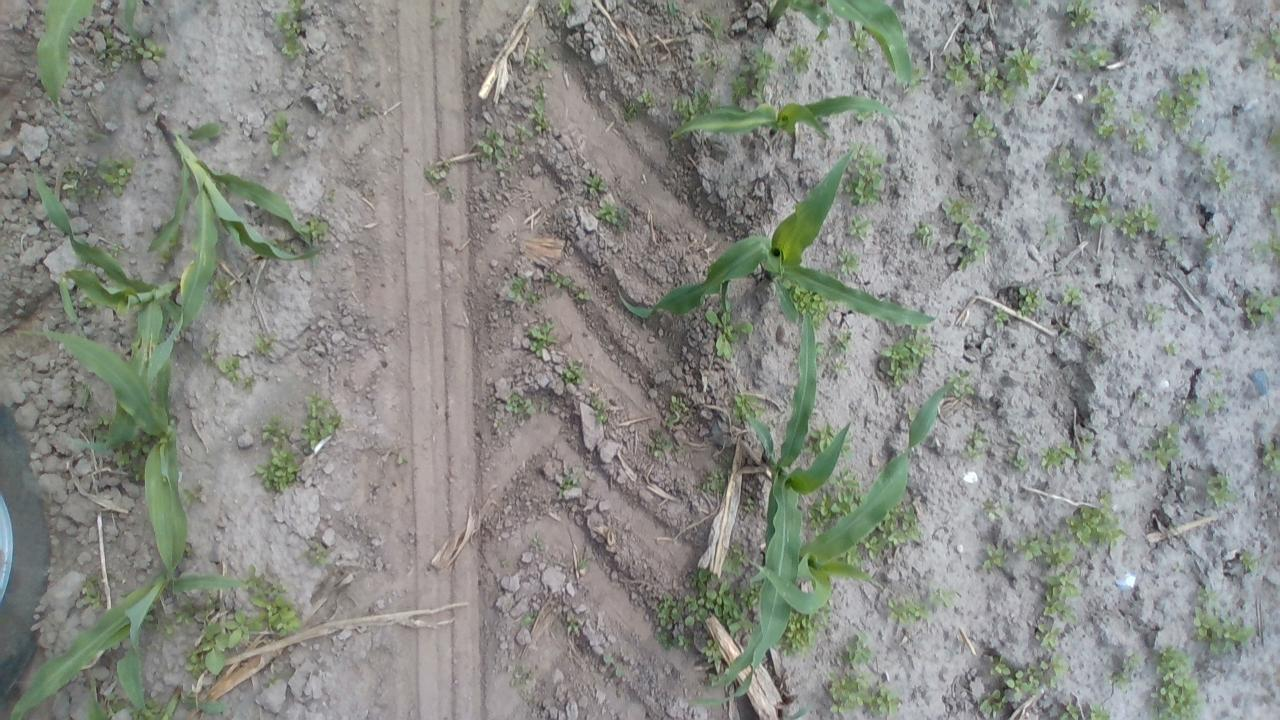Maize: (711, 379, 955, 687), (693, 313, 851, 705), (616, 147, 940, 324), (14, 313, 184, 575), (32, 172, 180, 450), (148, 113, 322, 344), (10, 573, 245, 720), (764, 0, 913, 82), (36, 1, 139, 111), (667, 96, 904, 140), (88, 677, 182, 720)
Weeds: (974, 650, 1066, 712), (1193, 586, 1254, 652), (1150, 646, 1202, 720), (698, 568, 754, 632), (882, 332, 936, 386), (1063, 503, 1129, 546), (706, 307, 754, 360), (807, 492, 863, 532), (302, 394, 339, 450), (848, 146, 882, 206), (200, 618, 234, 676), (1147, 420, 1183, 473), (653, 598, 696, 642), (1155, 90, 1199, 132), (255, 592, 300, 632), (260, 449, 298, 493), (790, 284, 826, 330), (1065, 42, 1115, 72), (1242, 289, 1280, 328), (1110, 648, 1146, 686), (1068, 195, 1110, 226), (1118, 205, 1160, 236), (101, 158, 136, 195), (886, 596, 929, 626), (831, 676, 866, 711), (1044, 570, 1080, 604), (961, 422, 990, 462), (672, 92, 714, 119), (1006, 50, 1036, 87), (892, 504, 922, 540), (786, 616, 816, 652), (276, 10, 300, 54), (866, 689, 901, 719), (965, 224, 992, 262), (1043, 440, 1076, 471), (528, 318, 558, 352), (1040, 597, 1078, 623), (722, 538, 748, 574), (1058, 703, 1112, 720), (1048, 146, 1075, 180), (1016, 284, 1043, 318), (268, 112, 288, 157), (1250, 28, 1280, 58), (941, 197, 972, 226), (226, 611, 254, 643), (1207, 472, 1233, 506), (98, 34, 124, 68), (694, 467, 726, 494), (1015, 532, 1043, 562), (1090, 85, 1118, 115), (1174, 66, 1211, 88), (732, 393, 762, 420), (132, 38, 164, 63), (848, 636, 871, 670), (218, 353, 244, 383), (478, 132, 508, 158), (1065, 0, 1091, 30), (698, 50, 726, 77), (184, 652, 209, 682), (810, 423, 834, 454), (1259, 437, 1280, 472), (1044, 541, 1072, 567), (1076, 150, 1100, 180), (262, 416, 289, 442), (928, 586, 956, 611), (980, 66, 1004, 95), (1034, 624, 1062, 648), (948, 369, 972, 397), (212, 276, 234, 306), (731, 74, 756, 100), (982, 545, 1006, 572), (788, 44, 812, 71), (82, 581, 105, 609), (702, 11, 722, 43), (533, 96, 550, 133), (582, 173, 608, 197), (972, 114, 996, 139), (1138, 3, 1162, 28), (505, 392, 527, 419), (668, 392, 690, 419), (755, 51, 776, 79), (835, 470, 860, 493), (1112, 458, 1134, 484), (840, 248, 861, 275), (590, 396, 610, 424), (596, 202, 620, 225), (528, 48, 550, 73), (306, 215, 326, 242), (944, 64, 968, 86), (852, 214, 874, 238), (308, 544, 328, 570), (132, 434, 152, 460), (1266, 118, 1280, 154), (602, 654, 622, 679), (562, 464, 581, 490), (1240, 547, 1258, 574), (508, 276, 528, 300), (1214, 161, 1230, 191), (650, 430, 670, 454), (702, 638, 722, 662), (1207, 391, 1227, 414), (962, 42, 981, 66), (850, 28, 870, 50), (918, 224, 938, 246), (1184, 395, 1203, 418), (116, 448, 136, 469), (563, 364, 584, 384), (255, 336, 274, 358), (991, 306, 1010, 328), (864, 537, 882, 560), (1005, 453, 1029, 470), (983, 500, 1001, 522), (834, 329, 850, 353), (174, 605, 193, 625), (158, 618, 177, 638), (1189, 137, 1207, 158), (999, 86, 1016, 108), (1098, 122, 1117, 141), (1046, 214, 1064, 234), (550, 271, 570, 289), (425, 167, 446, 184), (1145, 304, 1161, 326), (1266, 58, 1280, 83), (1268, 232, 1280, 261), (636, 89, 655, 107), (1064, 286, 1082, 305), (877, 516, 894, 536), (1162, 339, 1178, 359), (557, 0, 572, 21), (242, 375, 256, 395), (1162, 229, 1178, 246), (574, 288, 591, 304), (1202, 236, 1220, 251), (830, 357, 846, 373), (1132, 134, 1147, 150), (1084, 333, 1100, 348), (288, 0, 305, 14), (1130, 110, 1144, 127), (1250, 240, 1268, 253), (846, 550, 860, 566), (1266, 201, 1278, 218), (816, 341, 826, 356), (791, 352, 800, 364)
